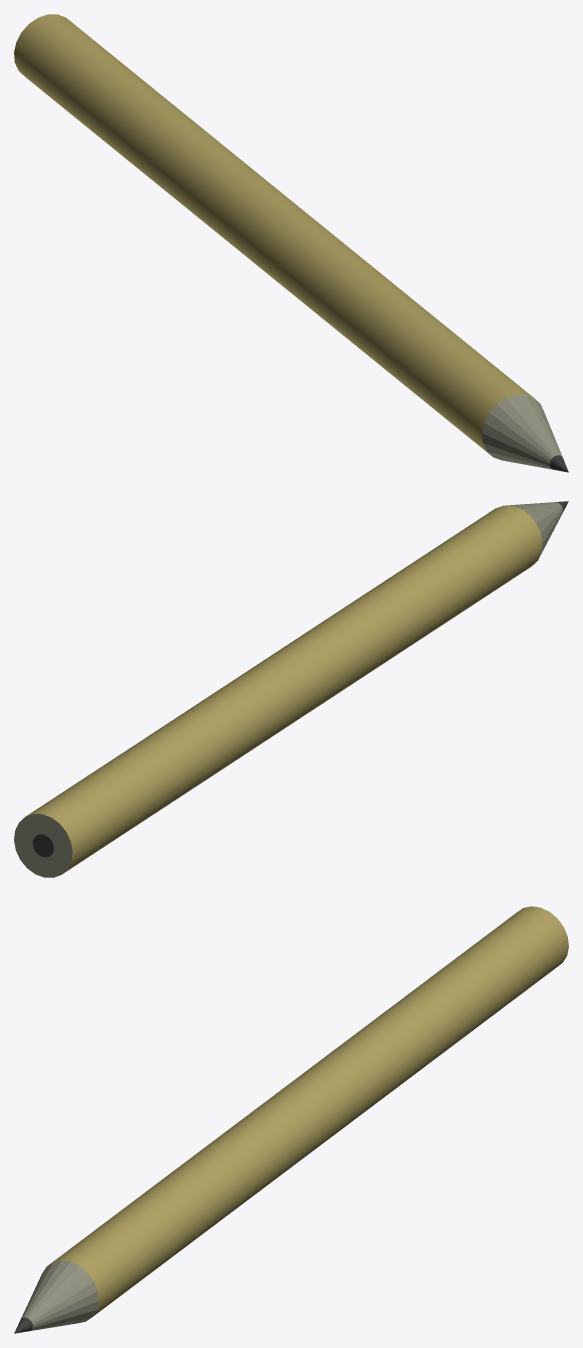
Rendered from 001_Pencil_001.fbx.
The picture shows the model from 3 angles, top to bottom: view 1: azimuth 30°, elevation 25°; view 2: azimuth 150°, elevation 25°; view 3: azimuth 330°, elevation 25°; orthographic projection. The views are drawn at different scales.
Parts seen in each view (by area): view 1: Pencil; view 2: Pencil; view 3: Pencil.
Boxes of the visible parts, x1=… form: Pencil: x1=14, y1=14, x2=568, y2=472; Pencil: x1=14, y1=501, x2=568, y2=877; Pencil: x1=14, y1=906, x2=568, y2=1333.
Size of the model in its own units: 65.71 by 73.54 by 804.
